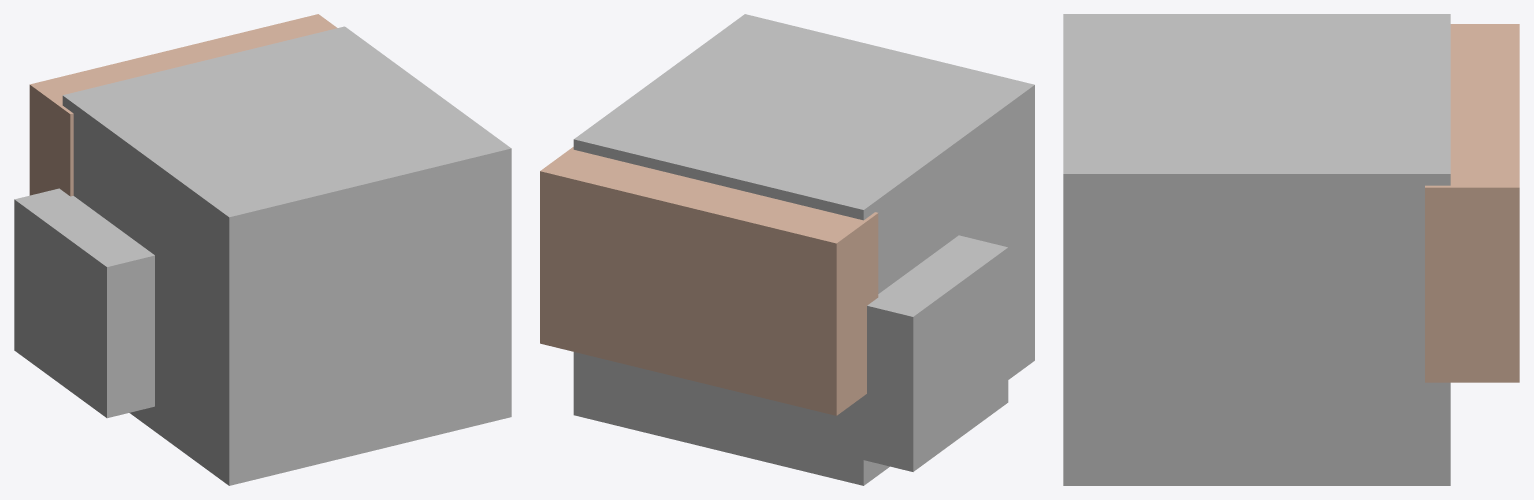
File: fist_R.obj
3 renders of one model, left to right at view 1: azimuth 30°, elevation 25°; view 2: azimuth 150°, elevation 25°; view 3: azimuth 270°, elevation 25°, orthographic. The views are drawn at different scales.
Parts seen in each view (by area): view 1: part0, part2, part1; view 2: part0, part1, part2; view 3: part0, part1.
Part boxes in pixels (left/top/right/bottom): part0: left=62, top=26, right=511, bottom=485; part2: left=14, top=188, right=154, bottom=418; part1: left=29, top=14, right=337, bottom=196; part0: left=573, top=14, right=1034, bottom=485; part1: left=540, top=147, right=878, bottom=415; part2: left=854, top=235, right=1008, bottom=471; part0: left=1063, top=14, right=1450, bottom=485; part1: left=1425, top=24, right=1519, bottom=382.
Size of the model in its own units: 0.104 by 0.08 by 0.106.
